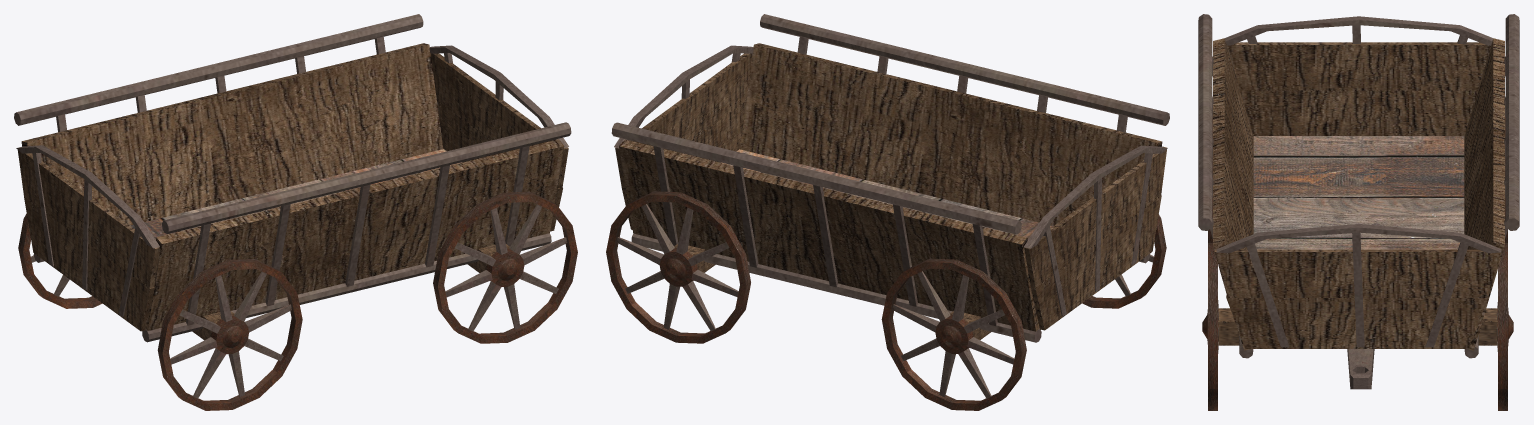
File: Wooden cart.fbx
3 renders of one model, left to right at view 1: azimuth 30°, elevation 25°; view 2: azimuth 150°, elevation 25°; view 3: azimuth 270°, elevation 25°, orthographic. The views are drawn at different scales.
Parts seen in each view (by area): view 1: Bases_laterais, Bases_frontais, R_D, R_D.001, Chao, R_E.001; view 2: Bases_laterais, Bases_frontais, R_E.001, R_E, Chao, R_D.001; view 3: Bases_frontais, Chao, Bases_laterais, R_D, R_E, Base_rodas, Guincho.
Part boxes in pixels (bbox=[...]): Bases_laterais: bbox=[14, 14, 571, 342]; Bases_frontais: bbox=[16, 45, 568, 331]; R_D: bbox=[433, 191, 577, 343]; R_D.001: bbox=[157, 259, 302, 410]; Chao: bbox=[130, 149, 461, 239]; R_E.001: bbox=[18, 214, 102, 308]; Bases_laterais: bbox=[611, 14, 1169, 342]; Bases_frontais: bbox=[614, 45, 1167, 330]; R_E.001: bbox=[881, 258, 1026, 410]; R_E: bbox=[606, 191, 750, 343]; Chao: bbox=[721, 149, 1053, 327]; R_D.001: bbox=[1082, 214, 1166, 308]; Bases_frontais: bbox=[1214, 16, 1501, 348]; Chao: bbox=[1253, 136, 1464, 249]; Bases_laterais: bbox=[1198, 14, 1519, 358]; R_D: bbox=[1202, 243, 1218, 410]; R_E: bbox=[1497, 243, 1513, 410]; Base_rodas: bbox=[1218, 308, 1497, 345]; Guincho: bbox=[1347, 349, 1374, 389].
Bounding box in the file's own units: 228 × 98.16 × 133.
